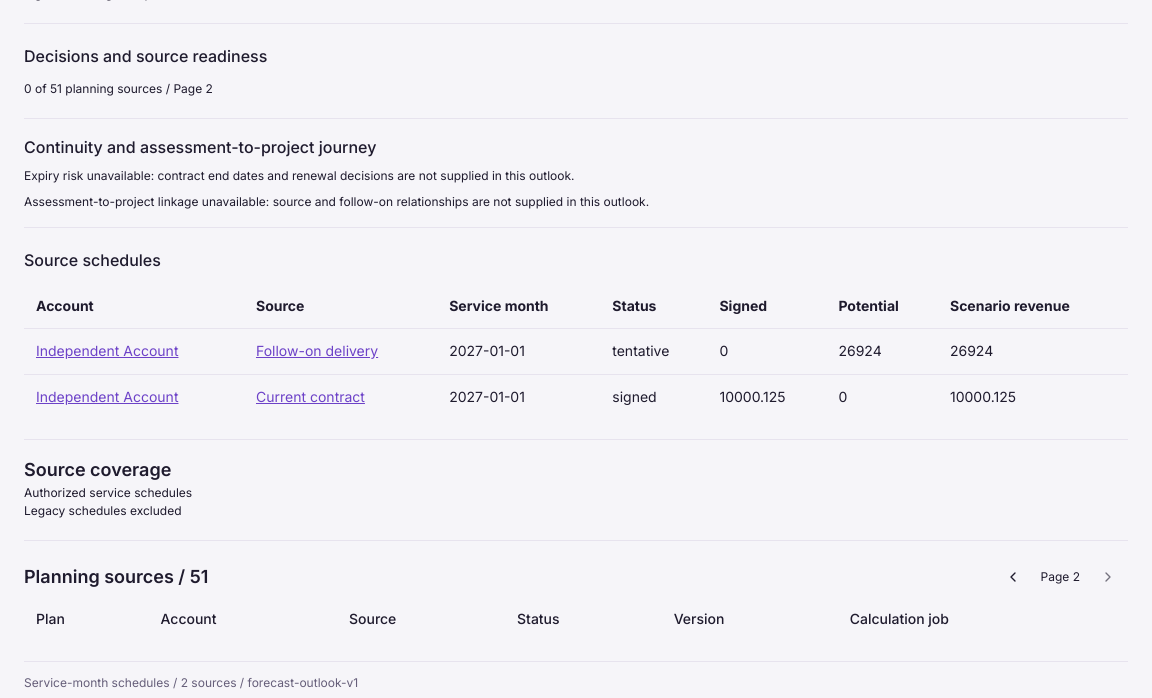
Test case: Independent Forecast Overview boundaries › uses exact source identity and evidence independently of which plan page is loaded
This screenshot has width=1152, height=698.
(page scrolled)
Click the button "Follow-on delivery": (317, 351) [256, 341, 378, 362]
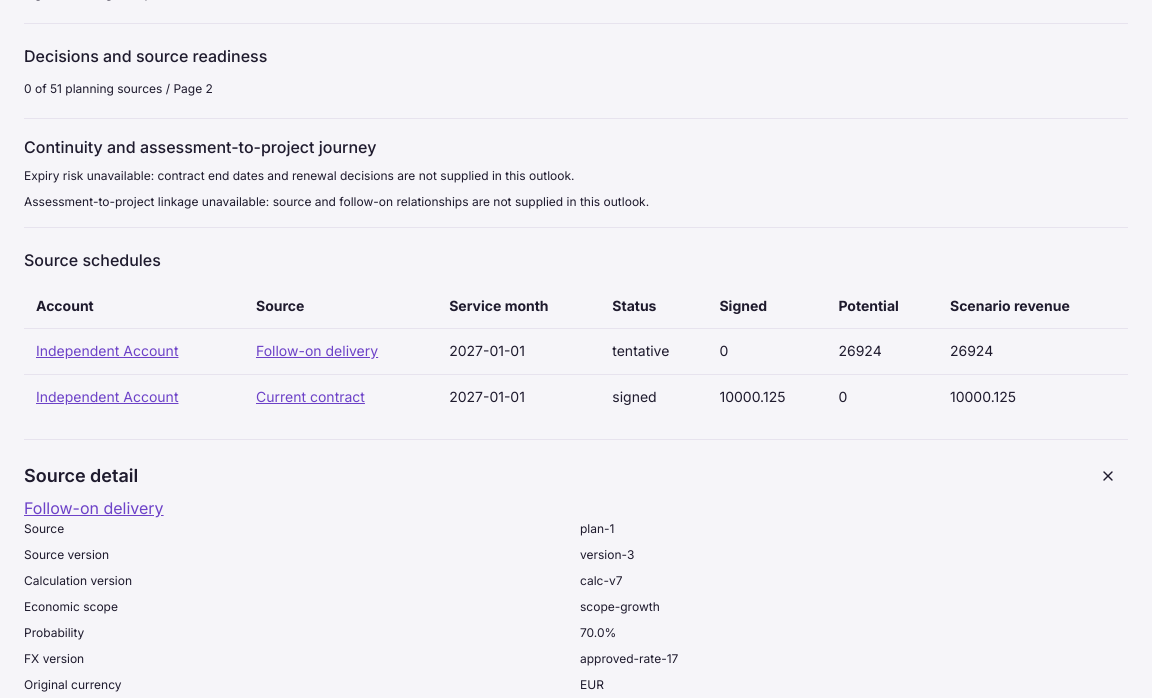
Result: the element "Source detail" shows "version-3" at [580, 547, 634, 562]
Result: the element "Source detail" shows "calc-v7" at [580, 573, 622, 588]
